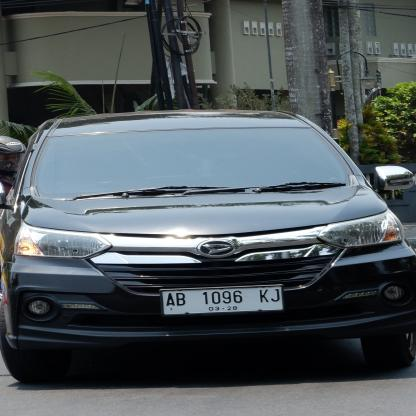Plat-Nomor: (158, 283, 290, 316)
